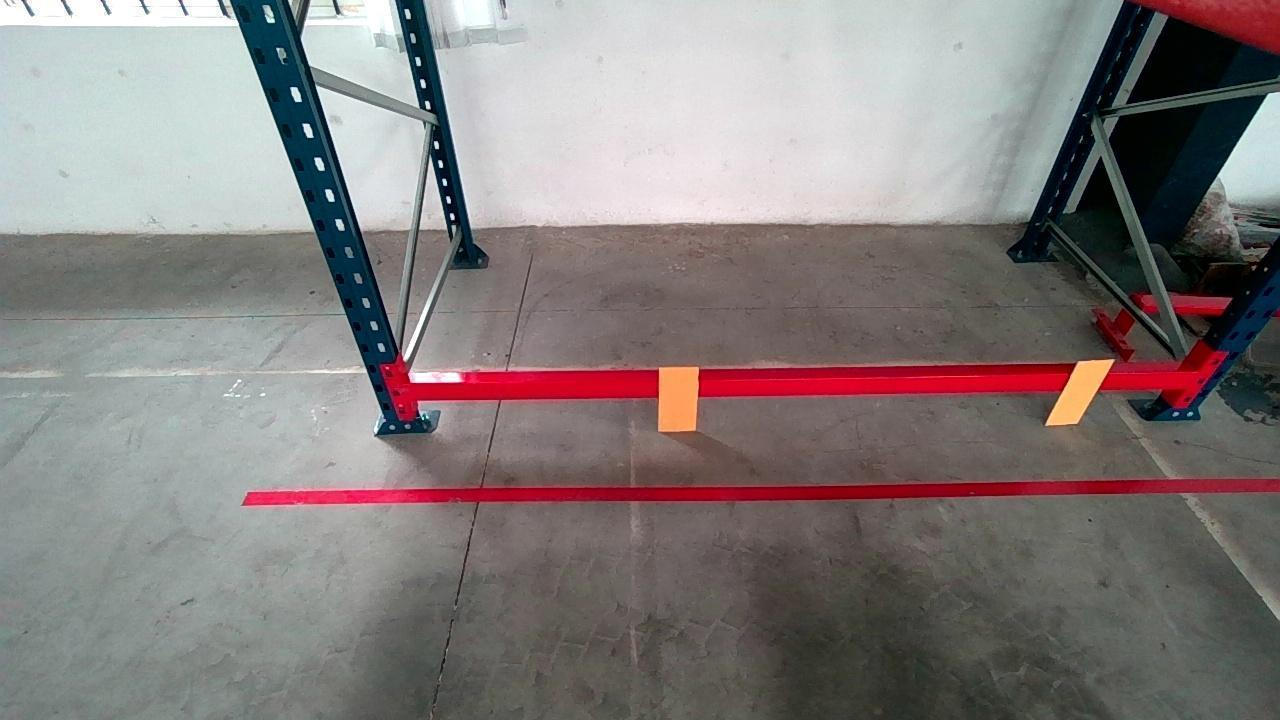red_line: (252, 473, 1261, 511)
